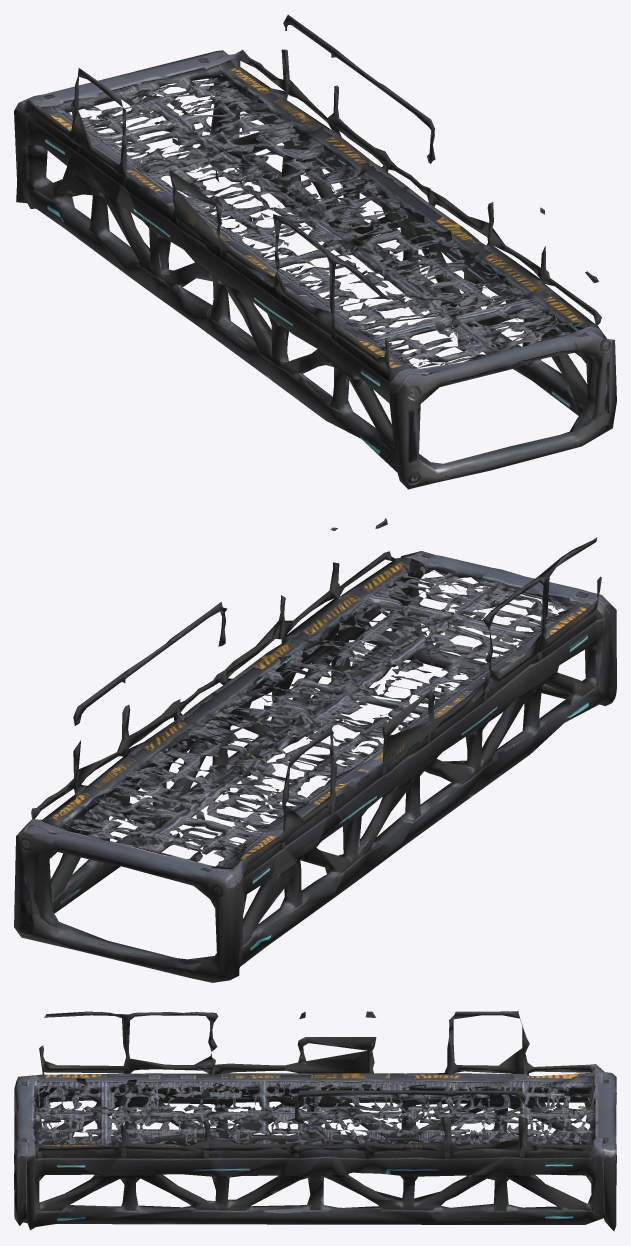
Rendered from passerelle_etroite.glb.
The picture shows the model from 3 angles, top to bottom: view 1: azimuth 30°, elevation 25°; view 2: azimuth 150°, elevation 25°; view 3: azimuth 270°, elevation 25°; orthographic projection. The views are drawn at different scales.
Parts seen in each view (by area): view 1: tripo_node_b5daa529-1772-4839-a4b1-d56e4b53d013; view 2: tripo_node_b5daa529-1772-4839-a4b1-d56e4b53d013; view 3: tripo_node_b5daa529-1772-4839-a4b1-d56e4b53d013.
Part boxes in pixels (bbox=[...]): tripo_node_b5daa529-1772-4839-a4b1-d56e4b53d013: bbox=[14, 15, 616, 489]; tripo_node_b5daa529-1772-4839-a4b1-d56e4b53d013: bbox=[14, 518, 616, 982]; tripo_node_b5daa529-1772-4839-a4b1-d56e4b53d013: bbox=[14, 1011, 616, 1231].
Size of the model in its own units: 0.3271 by 0.2631 by 0.9991.
1 material, 1 textured.
